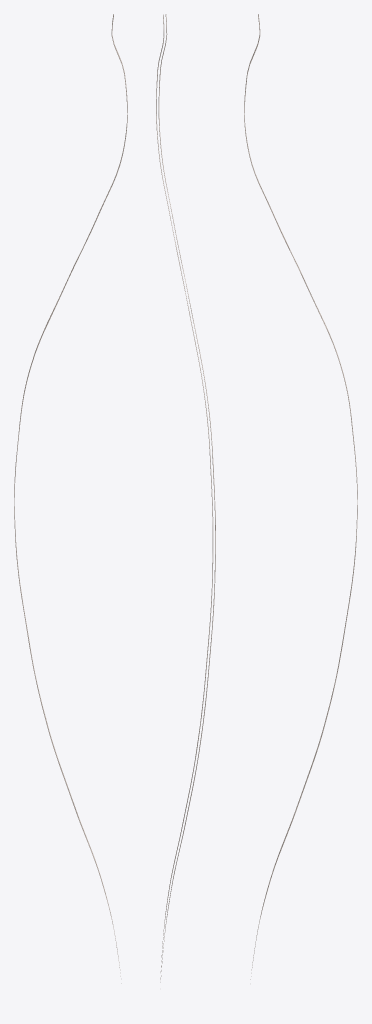
The model's file is nervoso-medial-vestibulospinal-tract.glb.
The picture shows the model from 3 angles, left to right: view 1: azimuth 90°, elevation 25°; view 2: azimuth 210°, elevation 25°; view 3: azimuth 270°, elevation 25°; orthographic projection.
Parts seen in each view (by area): view 1: Medial vestibulospinal tract; view 2: Medial vestibulospinal tract; view 3: Medial vestibulospinal tract.
Boxes of the visible parts, box(x1,y1,x2,y2) form: Medial vestibulospinal tract: box(14, 14, 127, 983); Medial vestibulospinal tract: box(156, 14, 215, 982); Medial vestibulospinal tract: box(244, 14, 357, 979).
Size of the model in its own units: 0.00173 by 0.4896 by 0.0507.
